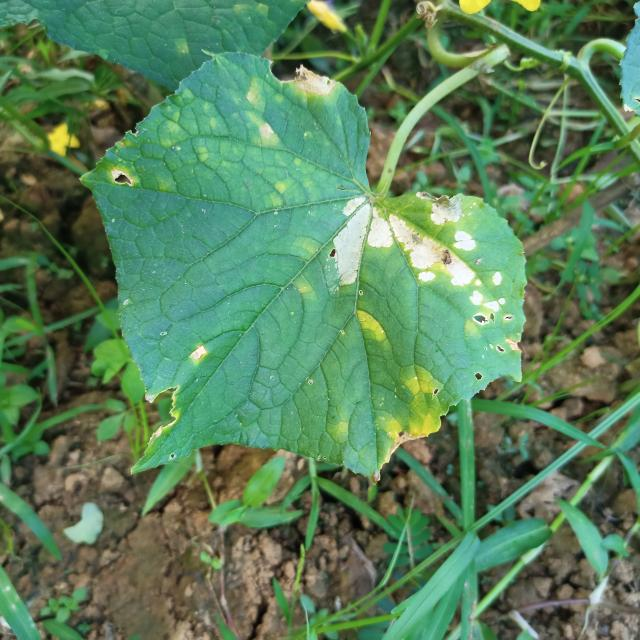disease_cucumber: (328, 186, 530, 342), (182, 83, 290, 193), (370, 360, 447, 445), (351, 306, 392, 349)
